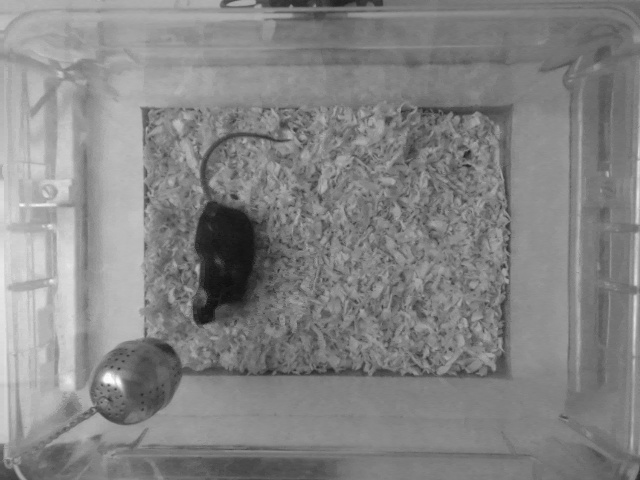mice: (185, 127, 294, 330)
